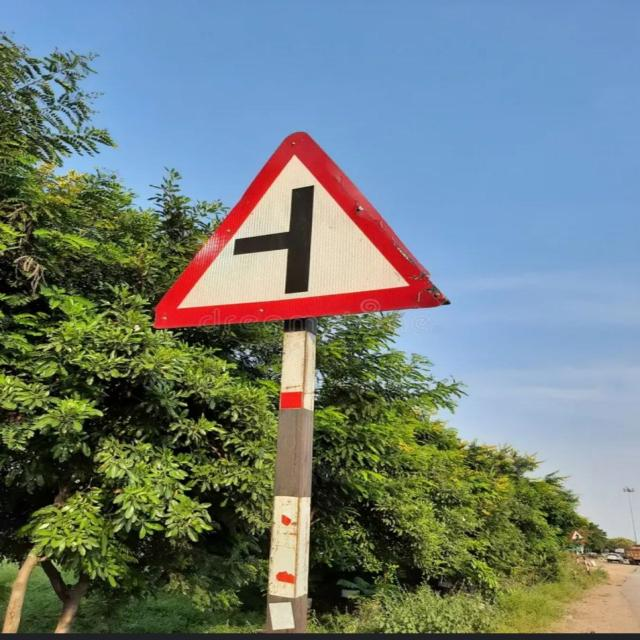Sideroad_toleft: (150, 134, 452, 334)
